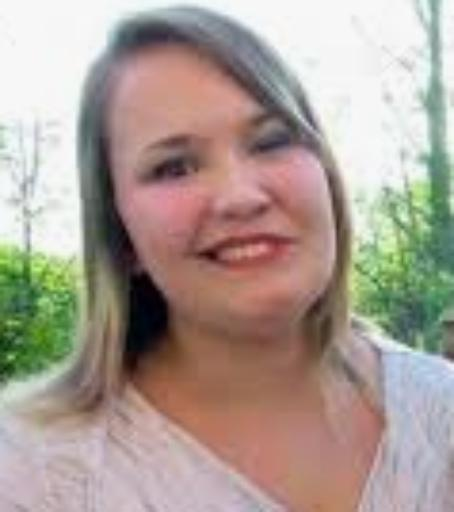left_eye: (245, 132, 298, 158)
left_lip_corner: (280, 232, 308, 253)
right_eye: (147, 156, 199, 184)
right_lip_corner: (191, 241, 229, 266)
